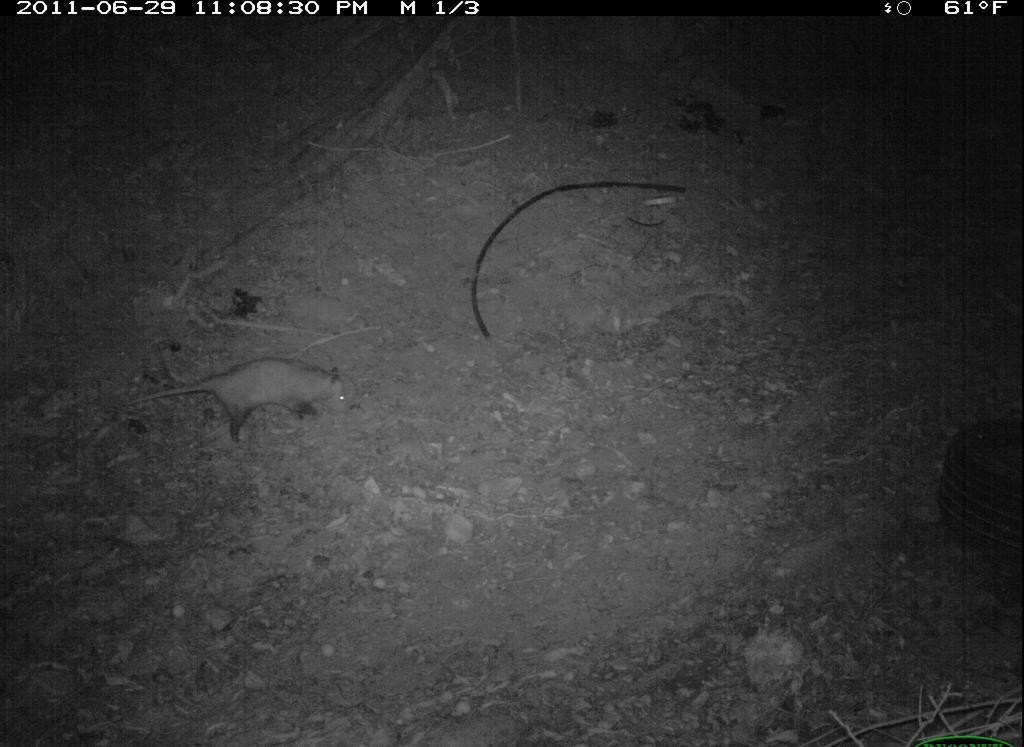opossum: (121, 353, 356, 445)
